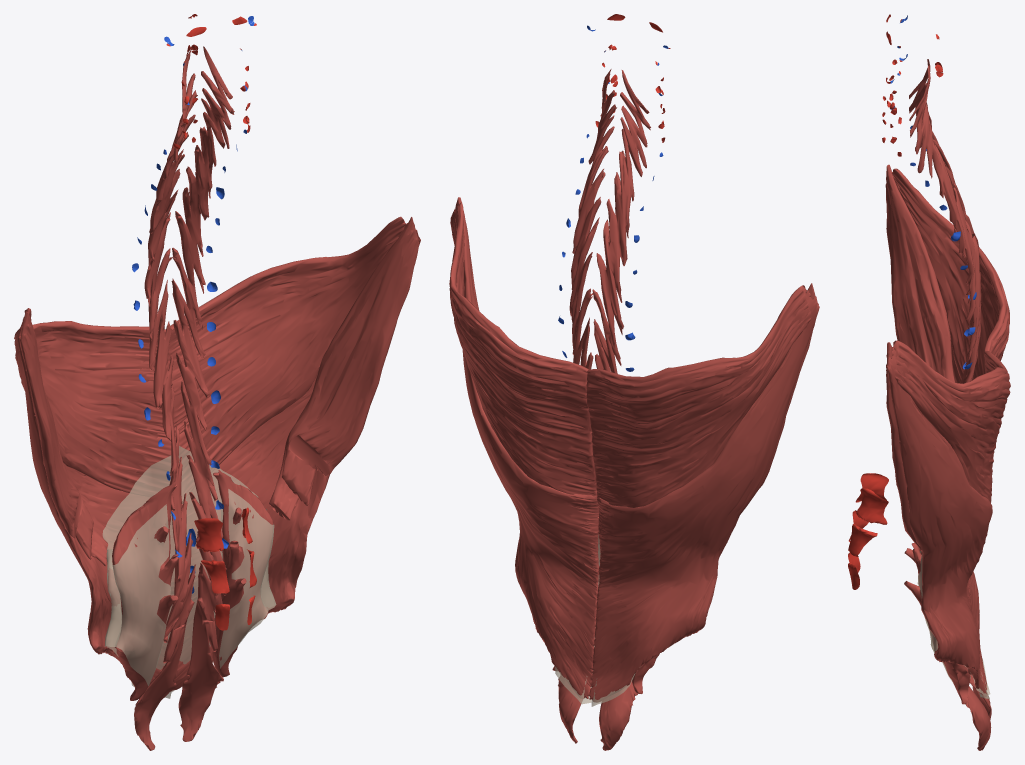
Rendered from muscular.back.glb.
The picture shows the model from 3 angles, left to right: view 1: azimuth 30°, elevation 25°; view 2: azimuth 150°, elevation 25°; view 3: azimuth 270°, elevation 25°; orthographic projection. The views are drawn at different scales.
Parts seen in each view (by area): view 1: left_latissimus_dorsi_muscle, right_latissimus_dorsi_muscle, left_rotatores, right_rotatores, right_quadratus_lumborum_muscle, left_quadratus_lumborum_muscle, right_anterior_layer_of_thoracolumbar_fascia, left_anterior_layer_of_thoracolumbar_fascia, right_posterior_layer_of_thoracolumbar_fascia, left_posterior_layer_of_thoracolumbar_fascia, right_diaphragm_origin_vertebra_l1; view 2: right_latissimus_dorsi_muscle, left_latissimus_dorsi_muscle, right_rotatores, left_rotatores; view 3: left_latissimus_dorsi_muscle, right_latissimus_dorsi_muscle, left_rotatores, right_rotatores, left_quadratus_lumborum_muscle, left_diaphragm_origin_vertebra_l1, right_diaphragm_origin_vertebra_l1, left_diaphragm_origin_vertebra_l2, left_anterior_layer_of_thoracolumbar_fascia.
Part boxes in pixels (x1,y1,x2,y2): left_latissimus_dorsi_muscle: (167, 216, 420, 690); right_latissimus_dorsi_muscle: (14, 308, 174, 683); left_rotatores: (171, 46, 234, 741); right_rotatores: (134, 48, 197, 750); right_quadratus_lumborum_muscle: (112, 482, 178, 700); left_quadratus_lumborum_muscle: (212, 470, 273, 677); right_anterior_layer_of_thoracolumbar_fascia: (112, 504, 170, 686); left_anterior_layer_of_thoracolumbar_fascia: (219, 489, 274, 668); right_posterior_layer_of_thoracolumbar_fascia: (102, 455, 175, 698); left_posterior_layer_of_thoracolumbar_fascia: (170, 446, 276, 696); right_diaphragm_origin_vertebra_l1: (194, 518, 223, 552); right_latissimus_dorsi_muscle: (586, 283, 819, 702); left_latissimus_dorsi_muscle: (449, 197, 599, 698); right_rotatores: (592, 70, 650, 750); left_rotatores: (558, 69, 616, 743); left_latissimus_dorsi_muscle: (886, 340, 1010, 696); right_latissimus_dorsi_muscle: (885, 164, 1009, 690); left_rotatores: (909, 65, 991, 750); right_rotatores: (909, 59, 991, 719); left_quadratus_lumborum_muscle: (904, 543, 970, 703); left_diaphragm_origin_vertebra_l1: (856, 488, 888, 524); right_diaphragm_origin_vertebra_l1: (855, 473, 888, 502); left_diaphragm_origin_vertebra_l2: (848, 524, 877, 556); left_anterior_layer_of_thoracolumbar_fascia: (917, 554, 952, 682).
Bounding box in the file's own units: 0.3565 × 0.6438 × 0.1324.
